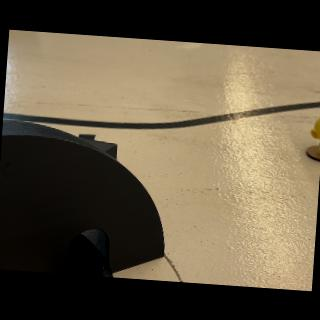teletubby: (310, 117, 320, 155)
